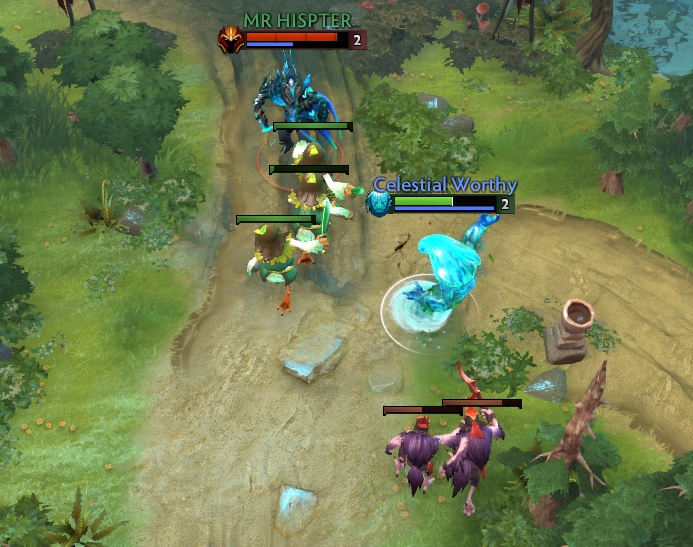allyCreep: (267, 115, 358, 135), (263, 159, 353, 179), (229, 213, 324, 229)
enemyCreep: (440, 394, 526, 415), (374, 403, 469, 416)
